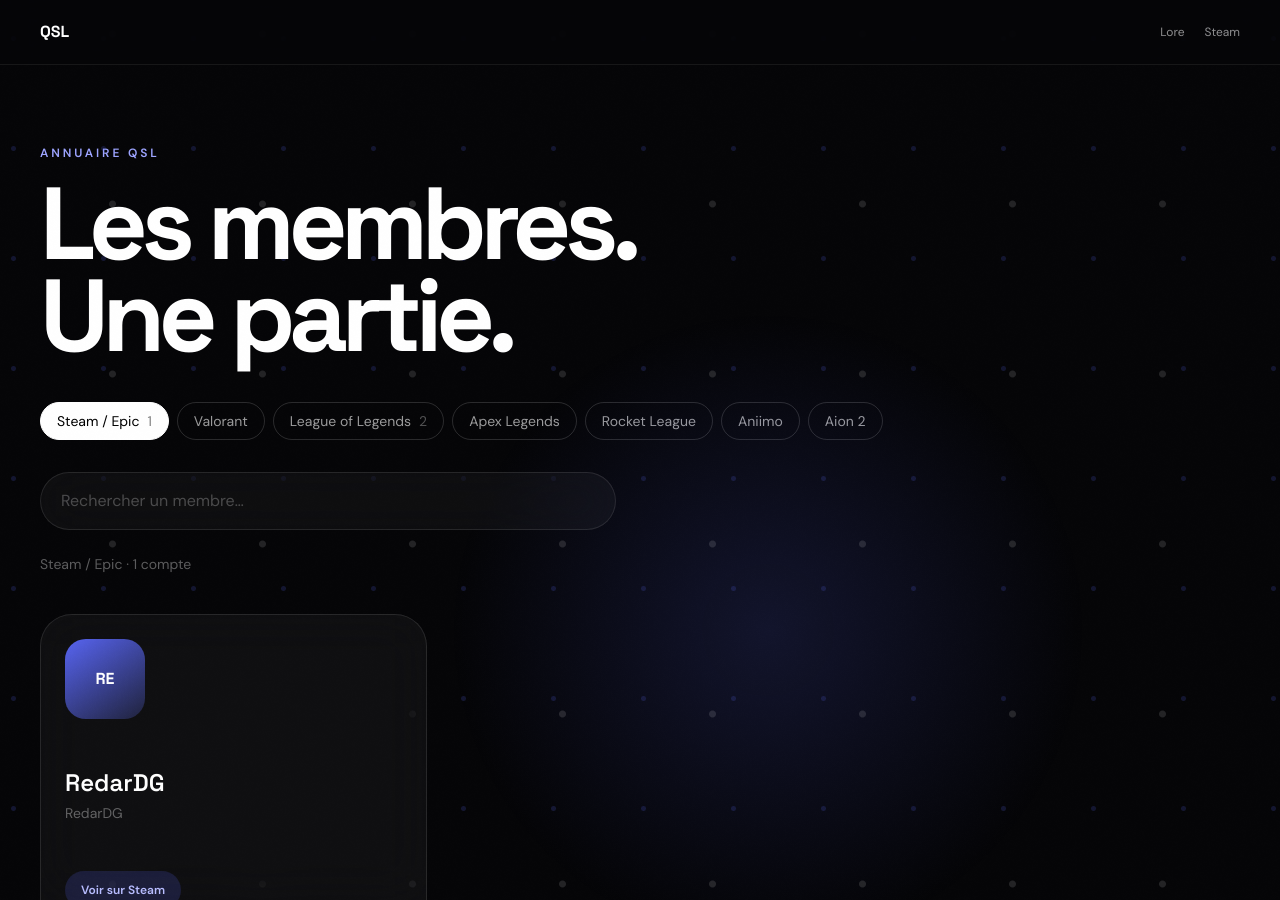
Test: annuaire (onglet Steam) › passe à un autre jeu et affiche ses comptes avec les rangs
The image size is (1280, 900).
Click the link "League of Legends2" at (358, 421), box x1=273 y1=402 x2=444 y2=440
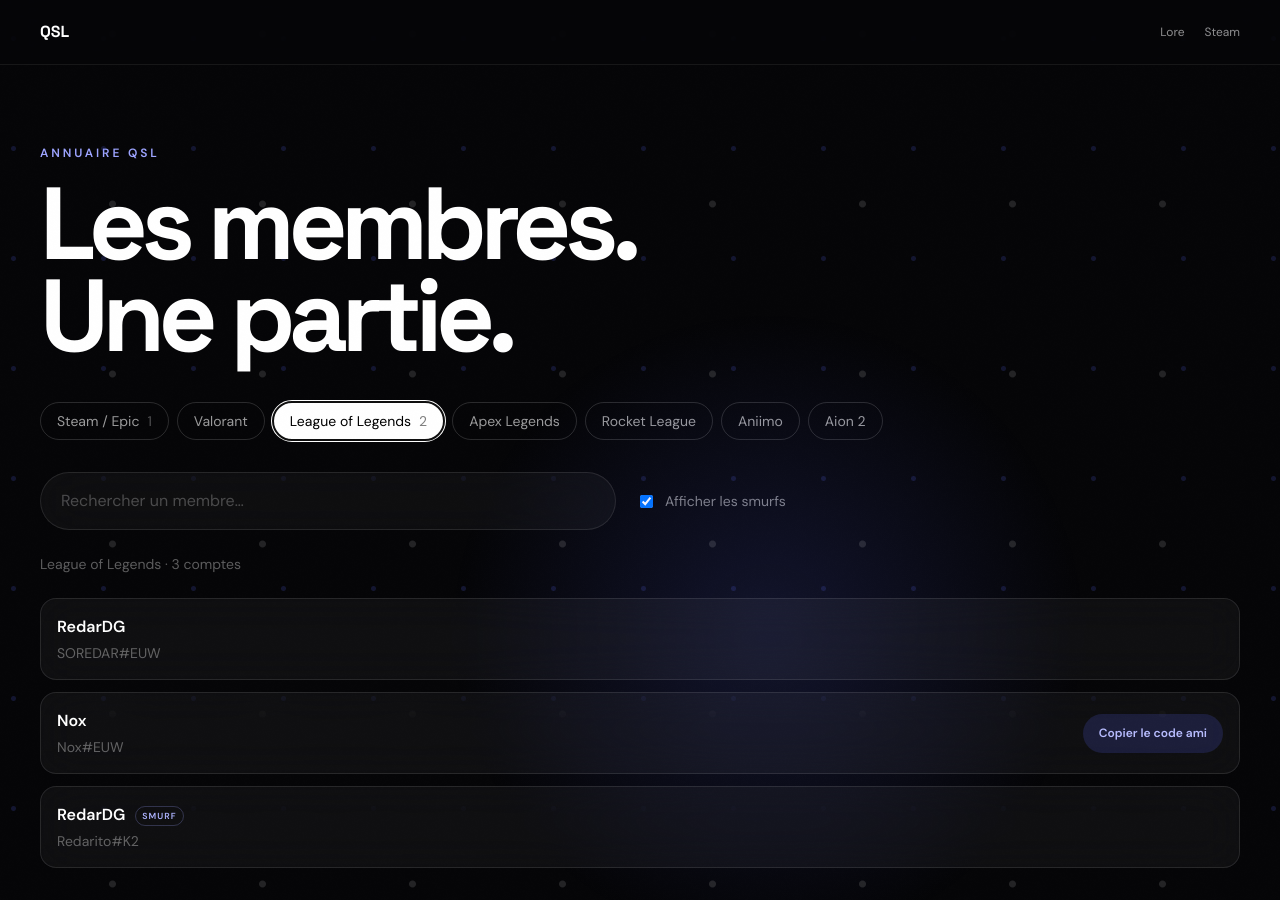
expect the text "SOREDAR#EUW" is shown: met, box x1=57 y1=644 x2=161 y2=662
expect the button "Copier le code ami" is shown: met, box x1=1083 y1=714 x2=1223 y2=753
